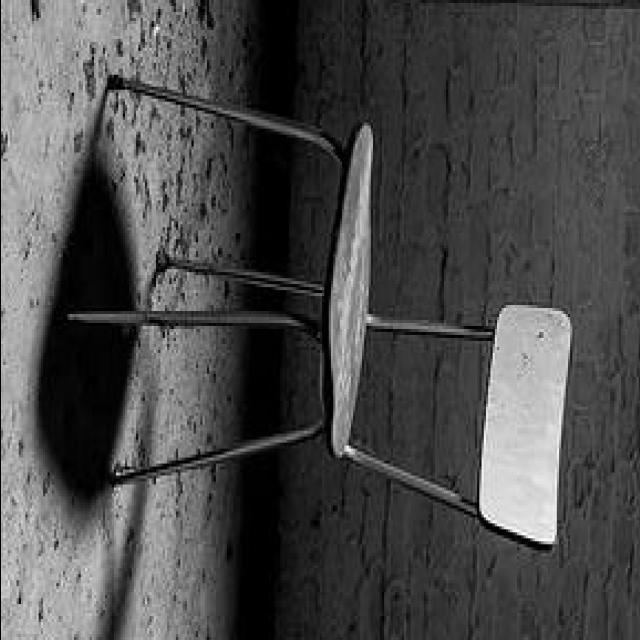chair: (58, 70, 574, 554)
